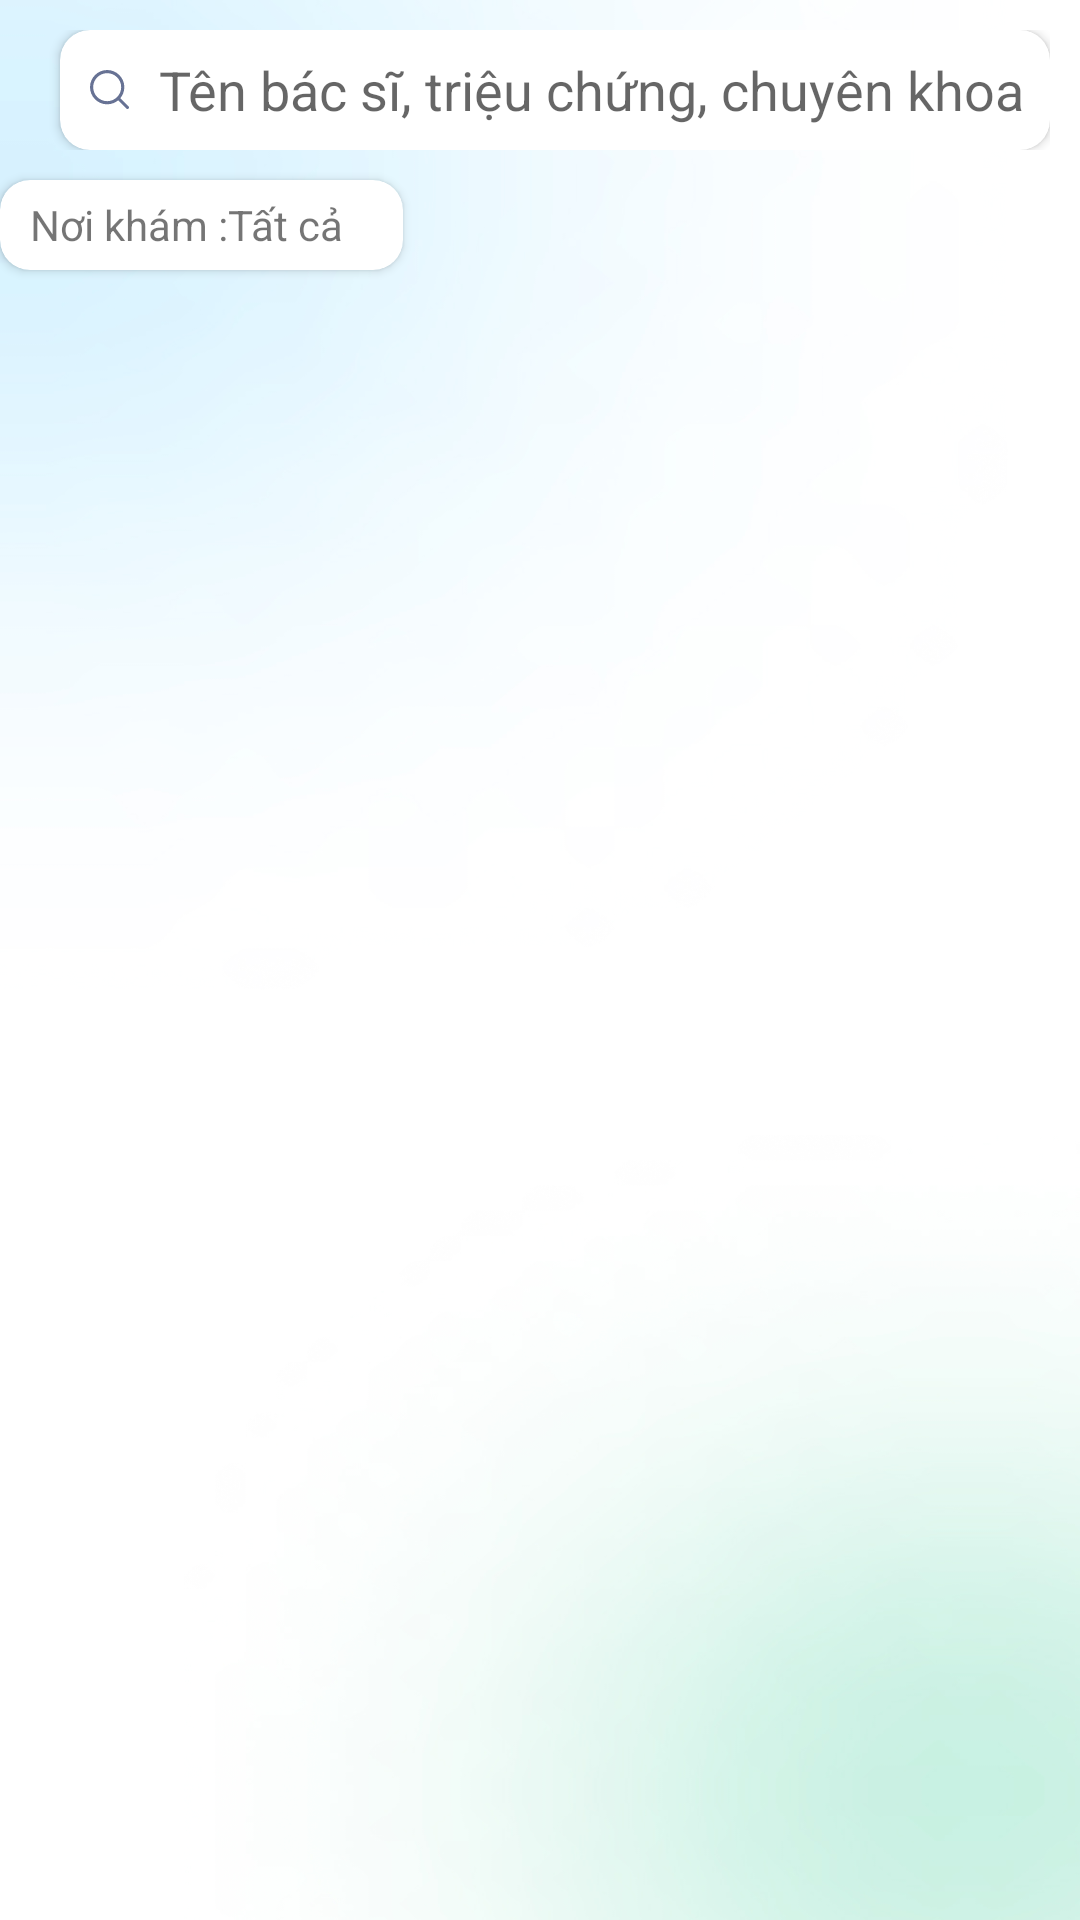

Screen size 1080*1920. Icon name, then its center in pixels as (x,y):
search: (109,89)
